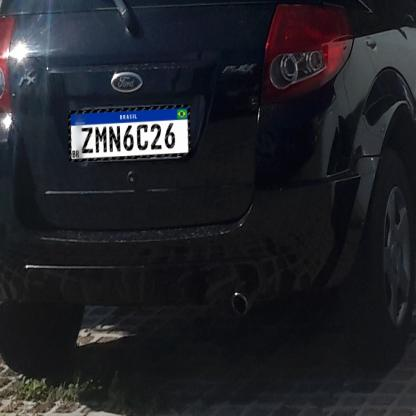PlacaM: (68, 105, 191, 162)
